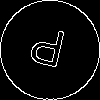P: (25, 25, 68, 77)
